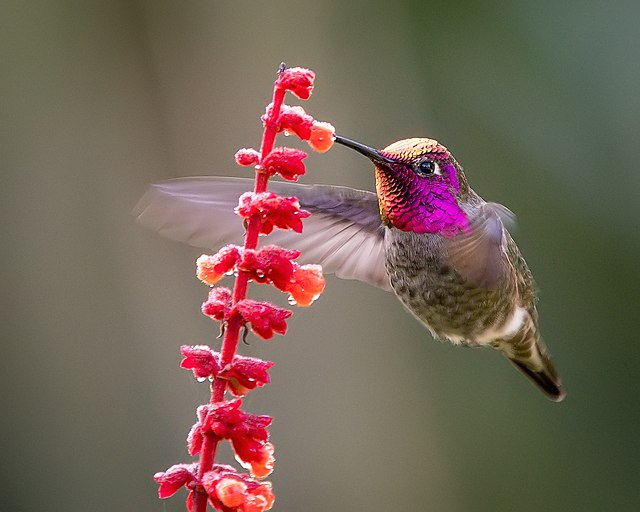calypte anna: (133, 135, 566, 403)
